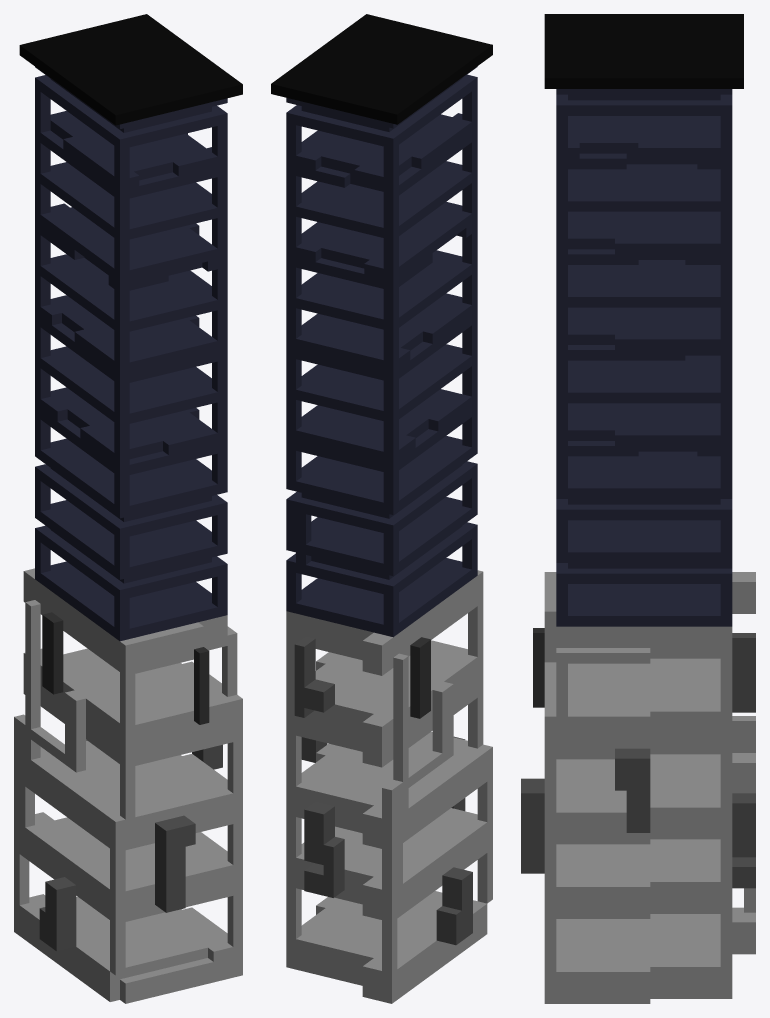
Rendered from Obstacle.obj.
3 renders of one model, left to right at view 1: azimuth 30°, elevation 25°; view 2: azimuth 150°, elevation 25°; view 3: azimuth 270°, elevation 25°, orthographic. The views are drawn at different scales.
Bounding box in the file's own units: 1.7 × 8.7 × 2.
Materials: 1 (1 with a texture image).
